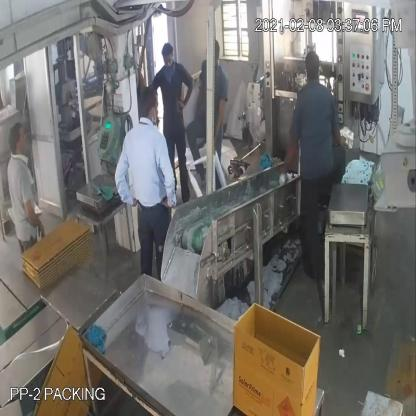no_glove: (101, 150, 138, 214), (158, 136, 178, 222), (21, 189, 50, 240), (278, 129, 300, 181), (180, 71, 196, 112)
